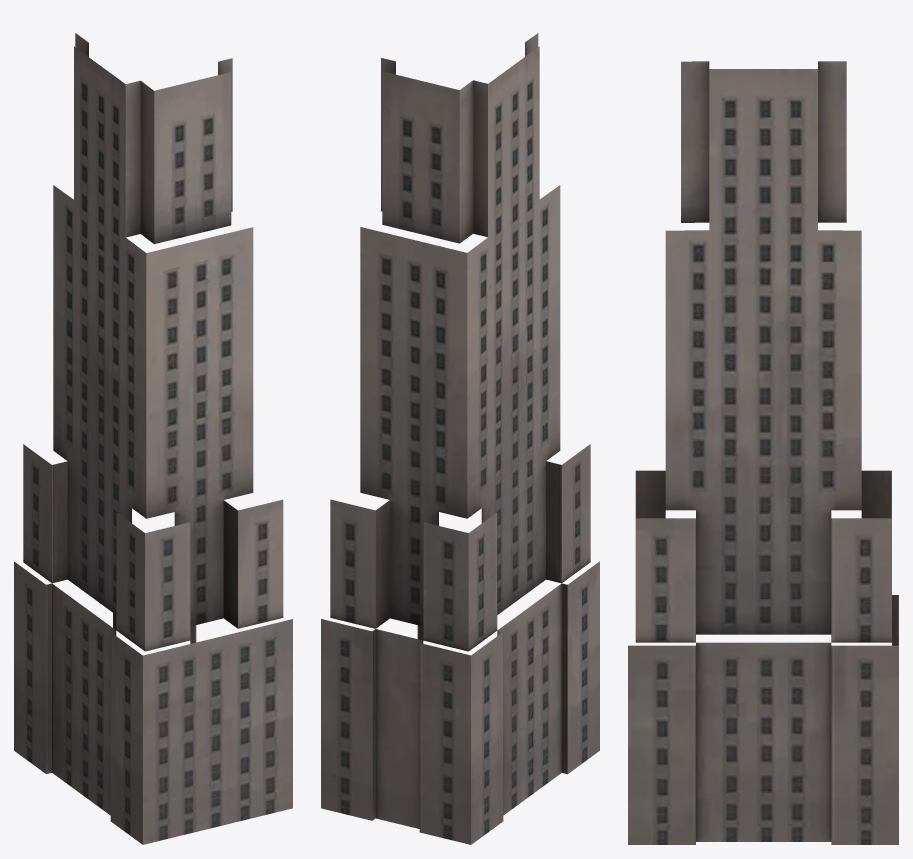
3 views of the same model, side by side, from view 1: azimuth 30°, elevation 25°; view 2: azimuth 150°, elevation 25°; view 3: azimuth 270°, elevation 25° (orthographic). The views are drawn at different scales.
Parts seen in each view (by area): view 1: body0_model0_lod0_mesh0; view 2: body0_model0_lod0_mesh0; view 3: body0_model0_lod0_mesh0.
Part boxes in pixels (x1=…): body0_model0_lod0_mesh0: x1=14, y1=33, x2=292, y2=844; body0_model0_lod0_mesh0: x1=321, y1=33, x2=599, y2=844; body0_model0_lod0_mesh0: x1=628, y1=61, x2=898, y2=844.
Bounding box in the file's own units: 75.19 × 348 × 112.
Materials: 1 (1 with a texture image).
